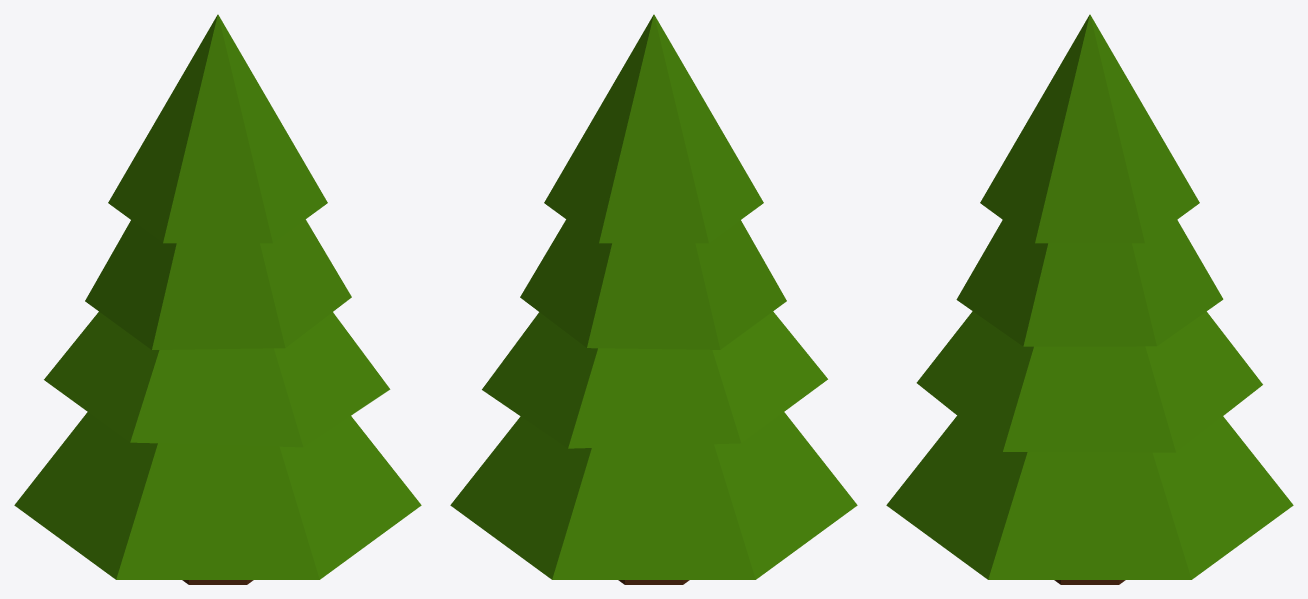
File: T_Pine3.fbx
The picture shows the model from 3 angles, left to right: view 1: azimuth 30°, elevation 25°; view 2: azimuth 150°, elevation 25°; view 3: azimuth 270°, elevation 25°; orthographic projection.
Visible parts, largest first — view 1: Cylinder; view 2: Cylinder; view 3: Cylinder.
Boxes of the visible parts, left/top/right/bottom form: Cylinder: left=14, top=14, right=421, bottom=584; Cylinder: left=450, top=14, right=857, bottom=584; Cylinder: left=886, top=14, right=1293, bottom=584.
Bounding box in the file's own units: 3.94 × 6.77 × 4.55.
